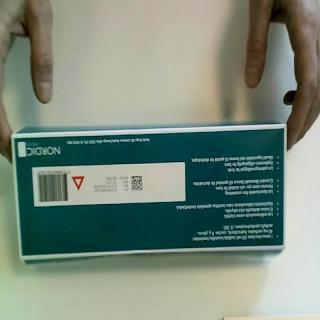metadon_hydrochlorid40mg: (9, 120, 289, 268)
